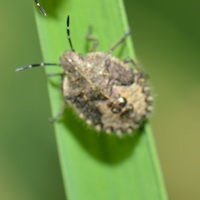insect: (16, 15, 152, 134)
